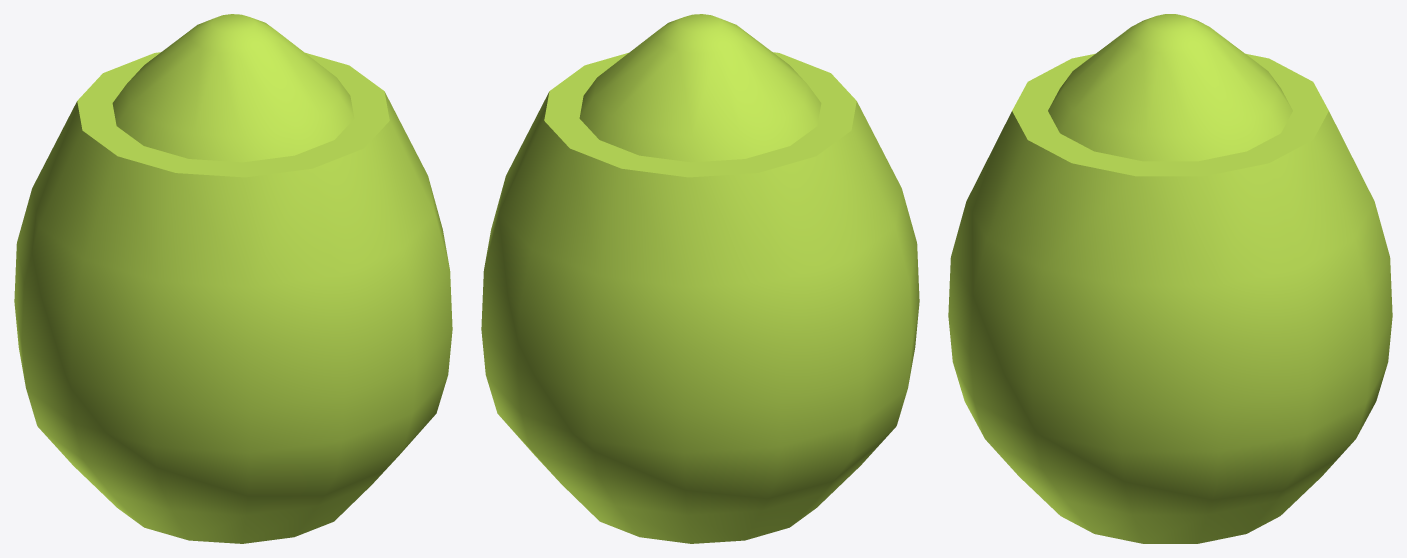
File: sugar_bowl_convex.fbx
3 views of the same model, side by side, from view 1: azimuth 30°, elevation 25°; view 2: azimuth 150°, elevation 25°; view 3: azimuth 270°, elevation 25° (orthographic).
Parts seen in each view (by area): view 1: sugar_bowl_convex, sugar_bowl_convex.001; view 2: sugar_bowl_convex, sugar_bowl_convex.001; view 3: sugar_bowl_convex, sugar_bowl_convex.001.
Part boxes in pixels (left/top/right/bottom): sugar_bowl_convex: left=14, top=52, right=452, bottom=543; sugar_bowl_convex.001: left=112, top=14, right=354, bottom=162; sugar_bowl_convex: left=481, top=52, right=919, bottom=543; sugar_bowl_convex.001: left=579, top=14, right=821, bottom=162; sugar_bowl_convex: left=948, top=53, right=1392, bottom=543; sugar_bowl_convex.001: left=1048, top=14, right=1292, bottom=161.
Size of the model in its own units: 3.13 by 3.22 by 3.76.
